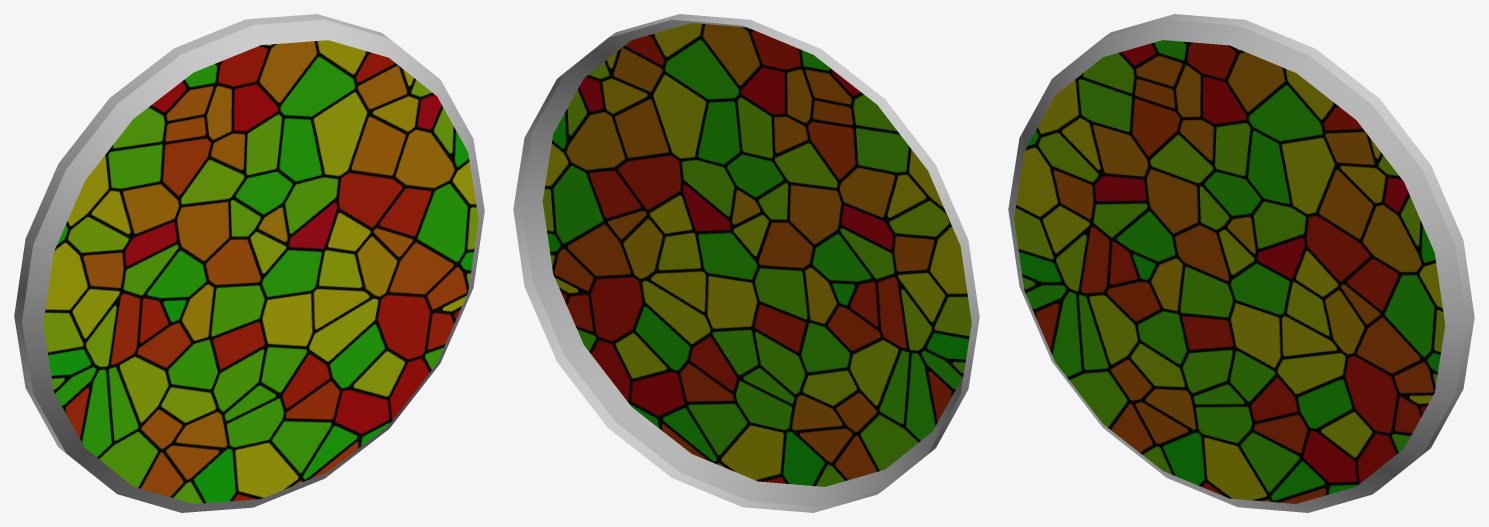
File: vitre.fbx
3 views of the same model, side by side, from view 1: azimuth 30°, elevation 25°; view 2: azimuth 150°, elevation 25°; view 3: azimuth 330°, elevation 25° (orthographic).
Parts seen in each view (by area): view 1: vitre; view 2: vitre; view 3: vitre.
Part boxes in pixels (x1,y1,x2,y2): vitre: (14,14,484,512); vitre: (513,14,979,512); vitre: (1008,14,1474,512).
Size of the model in its own units: 85.2 by 85.19 by 5.56.
